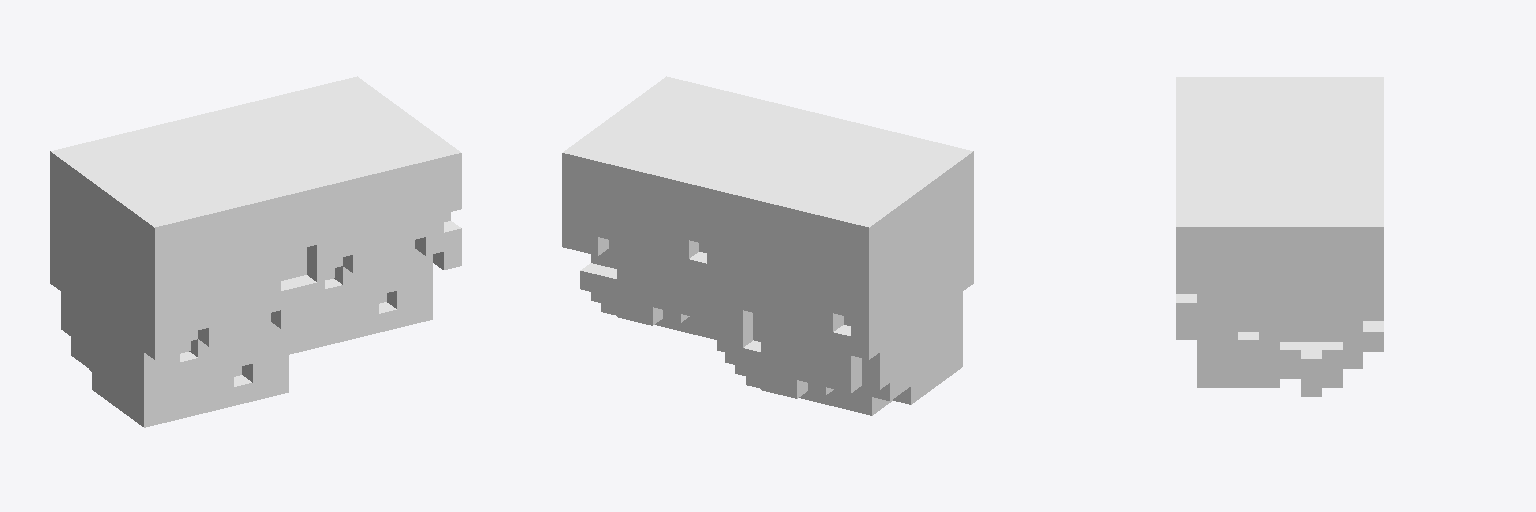
The model's file is caveBox.obj.
3 renders of one model, left to right at view 1: azimuth 30°, elevation 25°; view 2: azimuth 150°, elevation 25°; view 3: azimuth 270°, elevation 25°, orthographic.
Visible parts, largest first — view 1: grass; view 2: grass; view 3: grass.
Part boxes in pixels (bbox=[...]): grass: bbox=[50, 76, 461, 427]; grass: bbox=[562, 76, 973, 415]; grass: bbox=[1176, 77, 1383, 396].
Size of the model in its own units: 1.7 by 1.1 by 1.